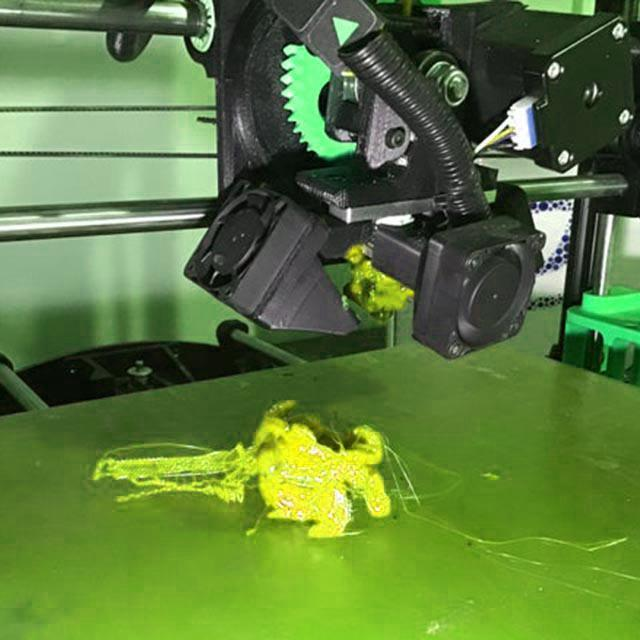Spaghetti: (90, 440, 256, 508)
